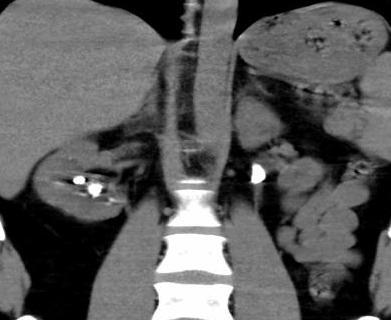Tas_Var: (246, 160, 274, 186), (85, 183, 106, 200), (70, 172, 88, 188)
